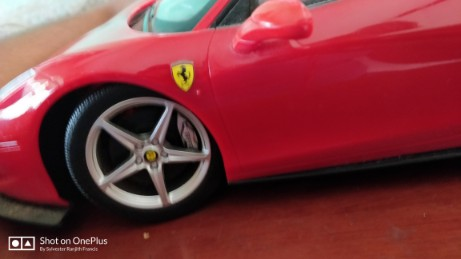unaligned_wheel: (50, 84, 223, 222)
